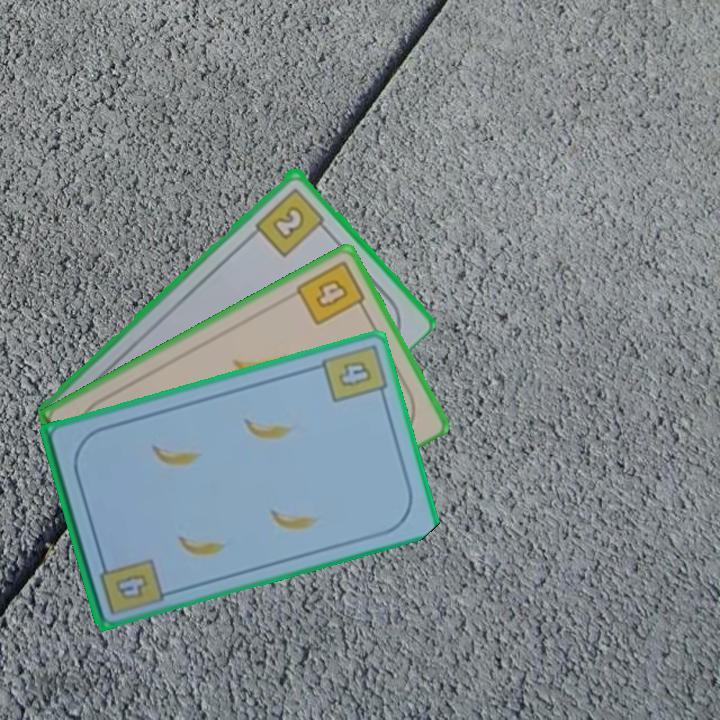2b: (251, 183, 332, 259)
4b: (292, 256, 371, 328), (317, 344, 390, 406), (111, 570, 152, 602)
